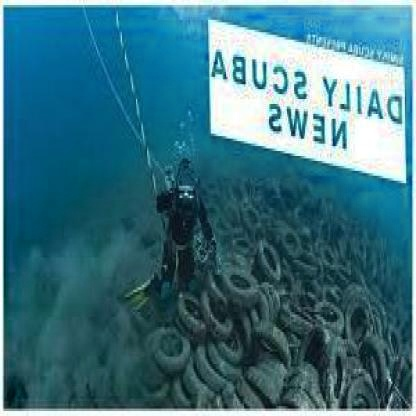tire: (160, 272, 414, 411), (212, 183, 374, 275)
